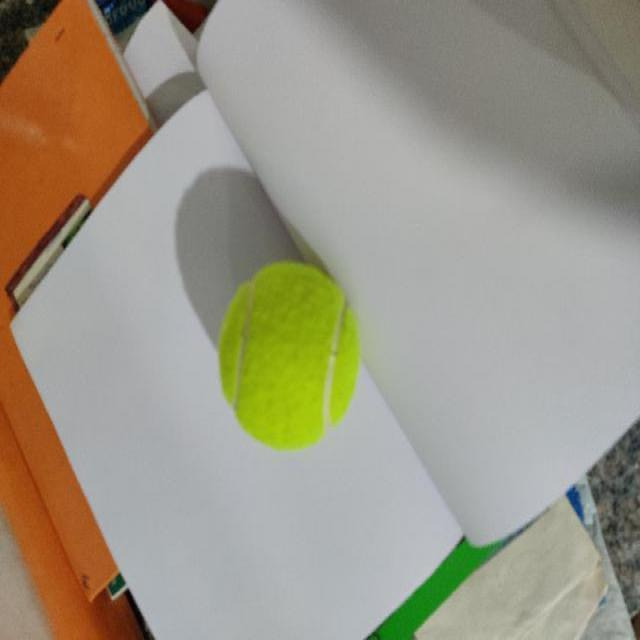tennis-ball: (218, 259, 361, 451)
